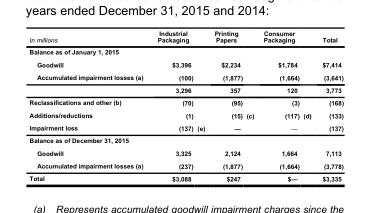table: (28, 29, 342, 181)
table column: (28, 29, 149, 181), (149, 29, 208, 181), (258, 29, 316, 181), (208, 29, 258, 181), (316, 29, 342, 181)
table column header: (28, 29, 342, 45)
table projected row header: (28, 133, 342, 146), (28, 45, 342, 57)
table row: (28, 29, 342, 45), (28, 57, 342, 70), (28, 70, 342, 83), (28, 95, 342, 108), (28, 108, 342, 121), (28, 133, 342, 146), (28, 146, 342, 159), (28, 45, 342, 57), (28, 83, 342, 95), (28, 121, 342, 133), (28, 159, 342, 171), (28, 171, 342, 181)
